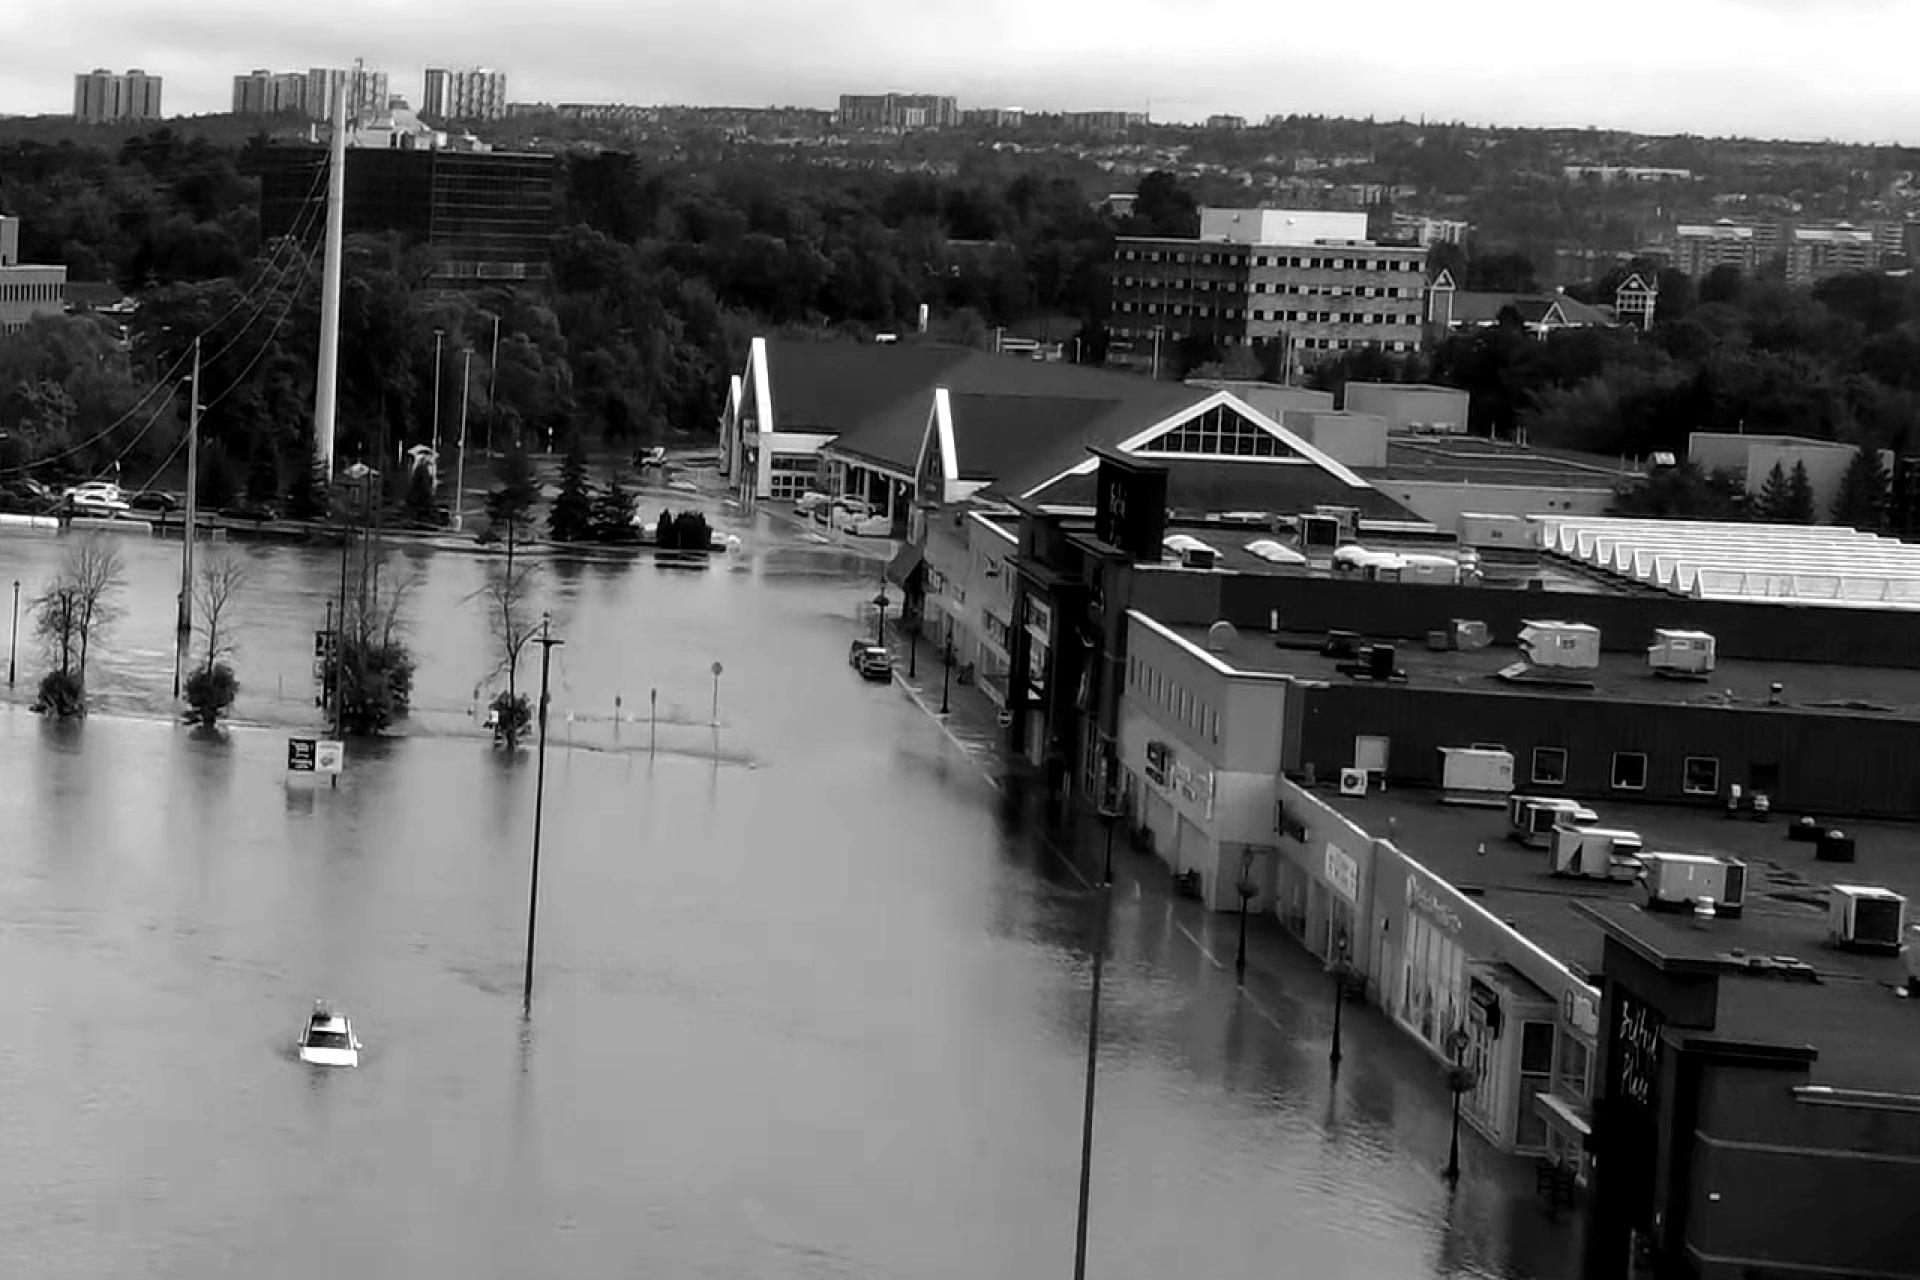Vehicle: (296, 1010, 363, 1066), (859, 647, 892, 680)
